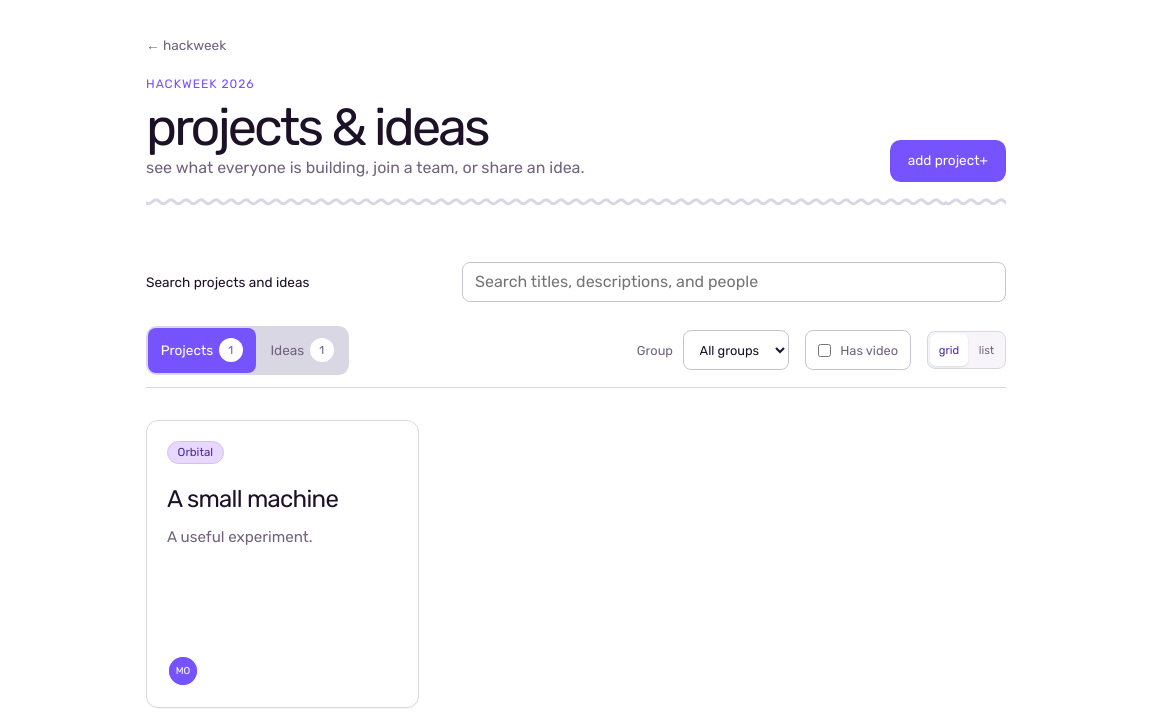
Scenario: clickable project routes › defaults to the grid view when storage is unavailable
Expected: the element "A small machine" is shown, [146, 420, 419, 708]
What coordinates should you click on to do the following:
click the button named "list view"
I would click on:
 (986, 350)
Its box is [970, 334, 1003, 366].
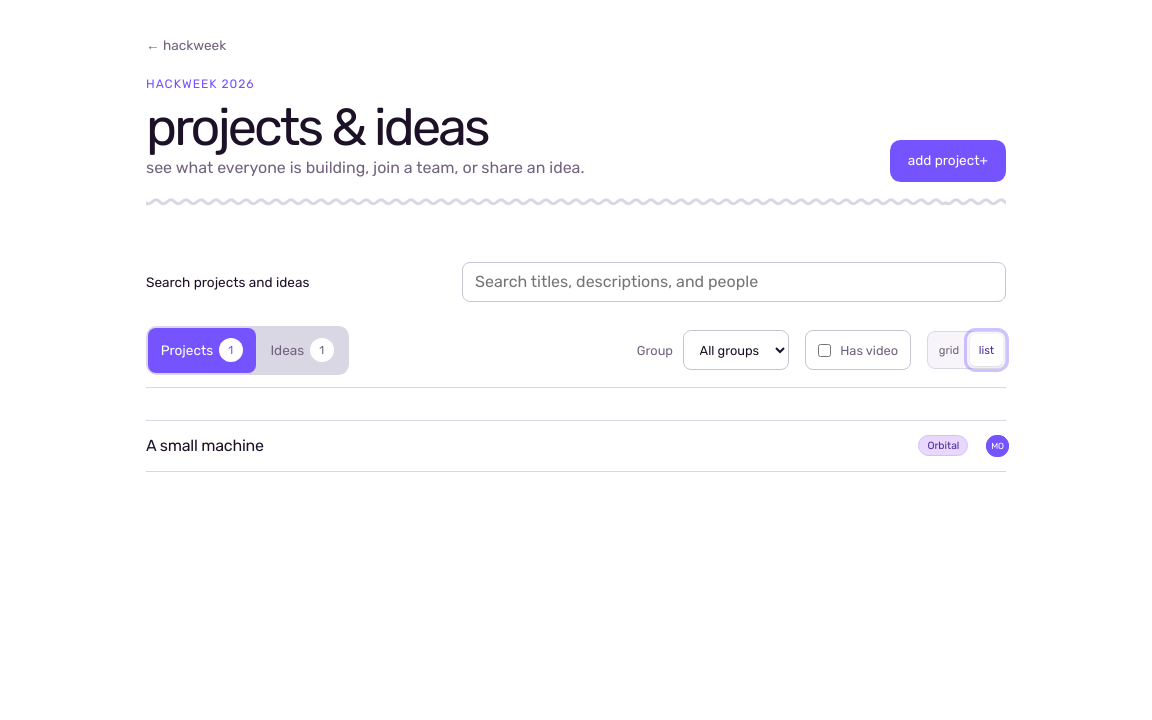
Now the element named "project list" has class "projectList", box [146, 420, 1006, 472]
What coordinates should you click on to do the following:
click the button "Ideas 1"
I would click on:
 (302, 350)
Its box is [258, 328, 347, 373].
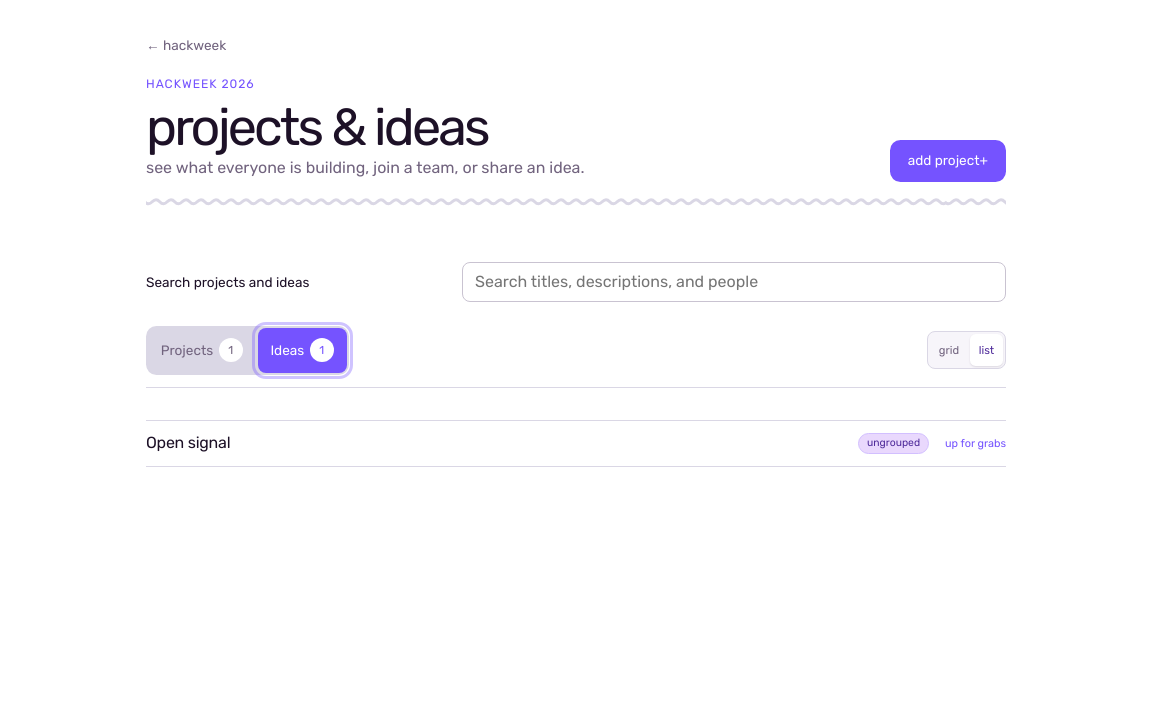
Now the heading "Open signal" is shown, box [146, 433, 230, 452]
